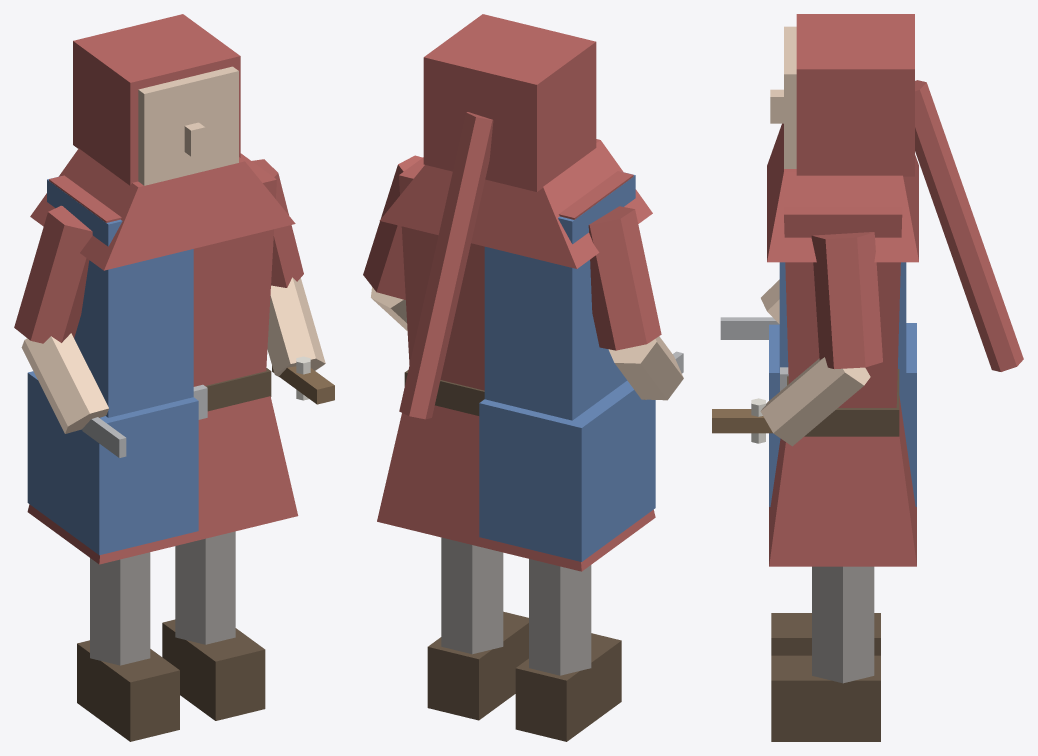
File: char_weaver.glb
The picture shows the model from 3 angles, left to right: view 1: azimuth 30°, elevation 25°; view 2: azimuth 150°, elevation 25°; view 3: azimuth 270°, elevation 25°; orthographic projection. The views are drawn at different scales.
Visible parts, largest first — view 1: char_weaver; view 2: char_weaver; view 3: char_weaver.
Part boxes in pixels (box(x1,y1,x2,y2)): char_weaver: box(14, 14, 334, 741); char_weaver: box(363, 14, 683, 741); char_weaver: box(712, 14, 1023, 741).
Size of the model in its own units: 0.7764 by 1.74 by 0.7379.
